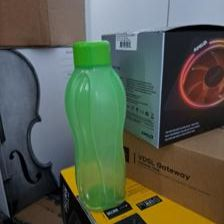bottle: (63, 36, 131, 211)
